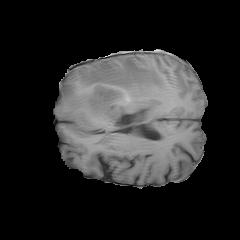glioma: (66, 55, 167, 125)
